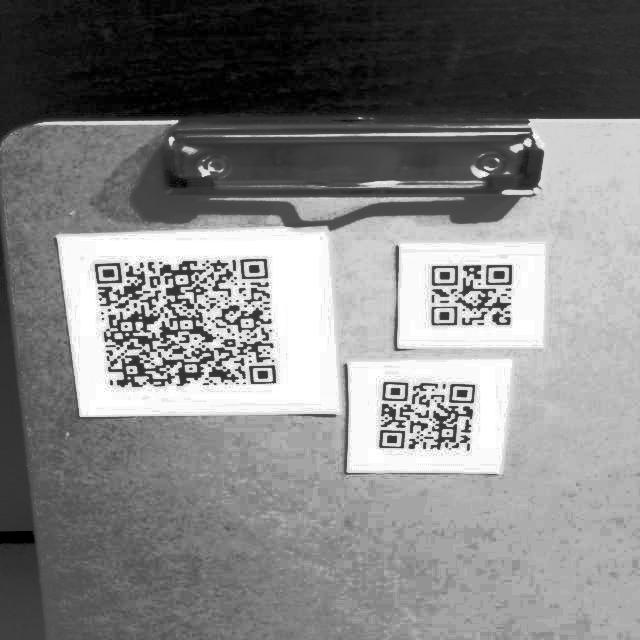qr_code: (86, 246, 287, 404), (367, 375, 484, 460), (419, 252, 529, 340)
